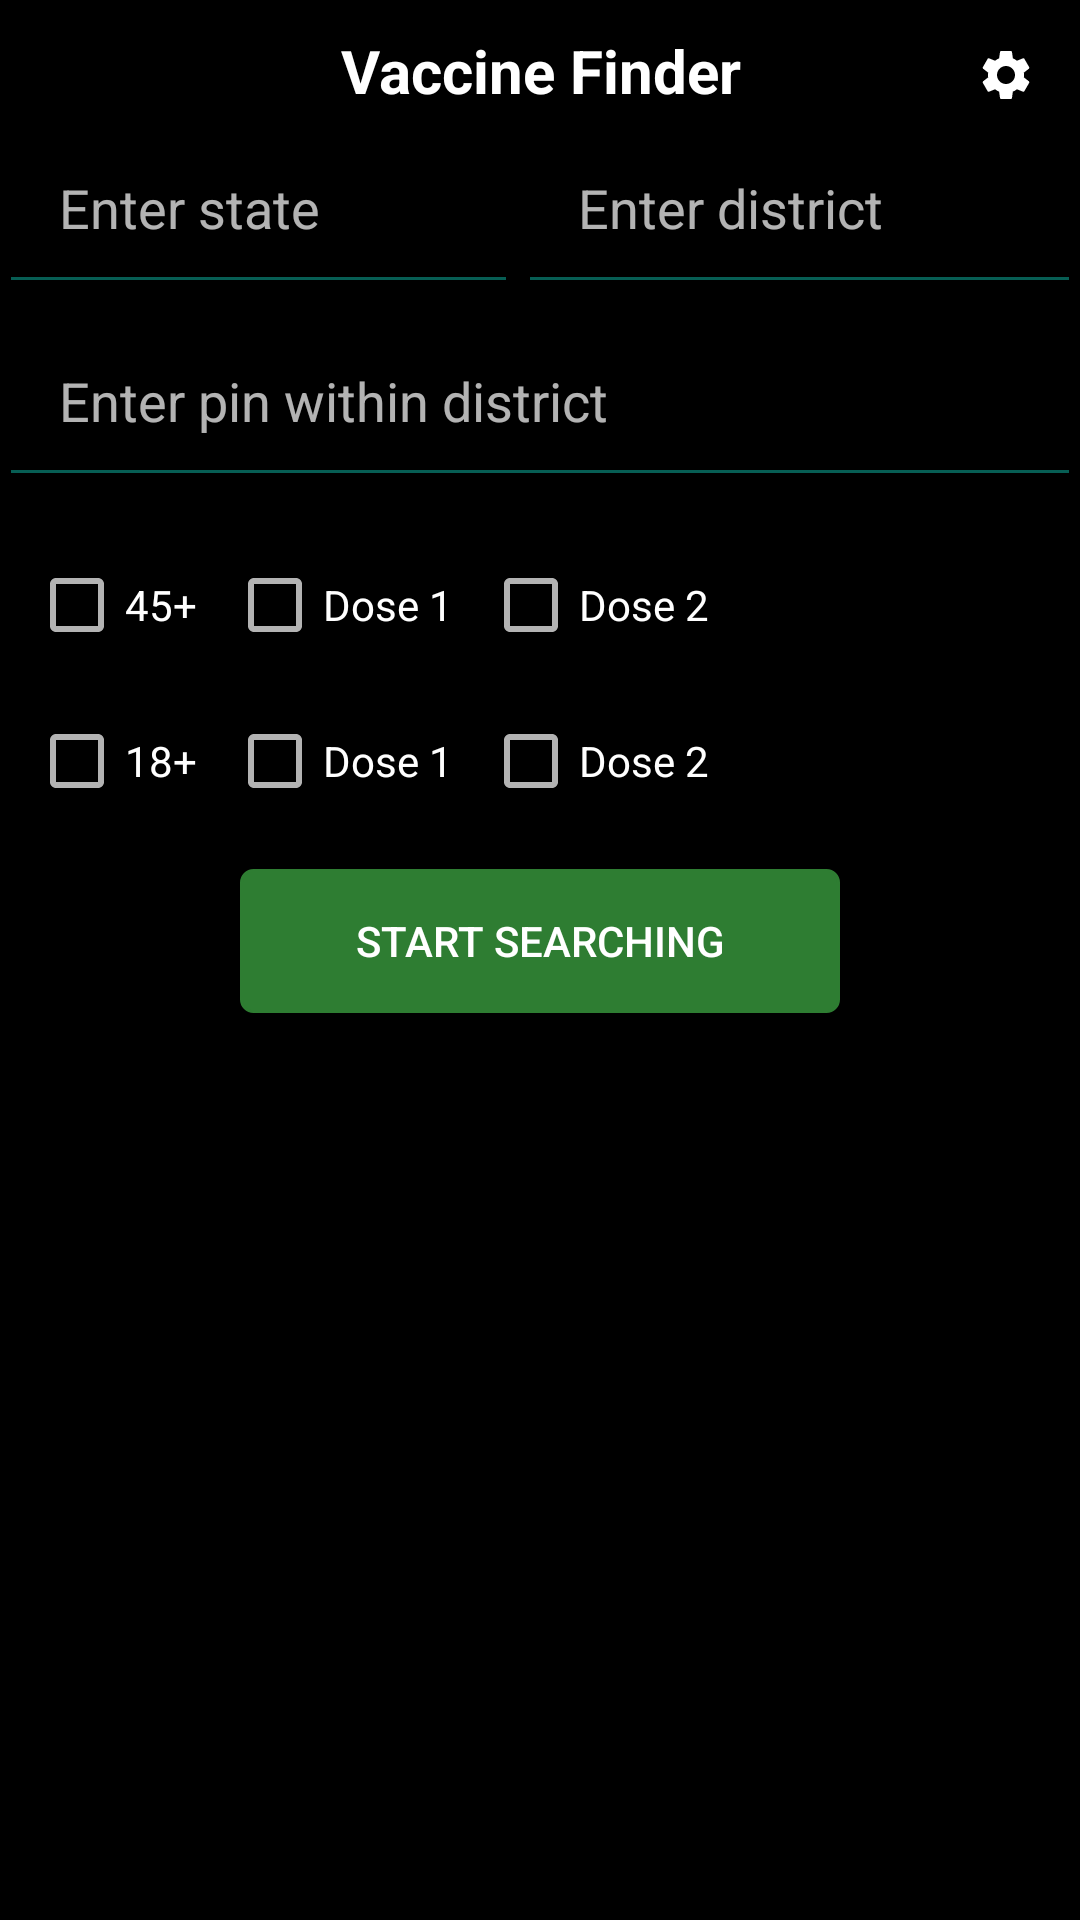

Icons on this 1080*1920 Android screen, each with the point to tap as point (x, y):
settings: point (1006, 75)
